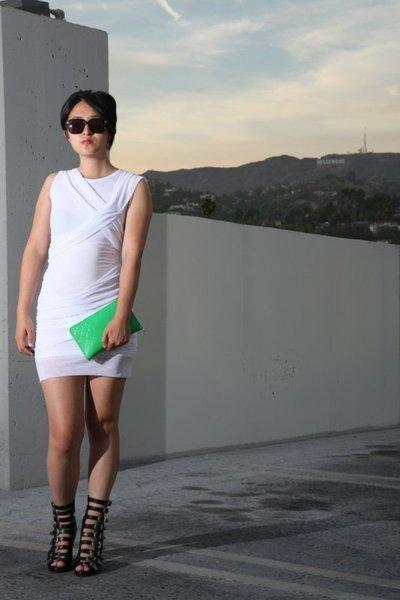bag: (70, 300, 123, 359)
dress: (34, 168, 143, 395)
shoe: (50, 499, 112, 576)
shorts: (84, 519, 113, 556)
sunglass: (84, 113, 116, 149)
